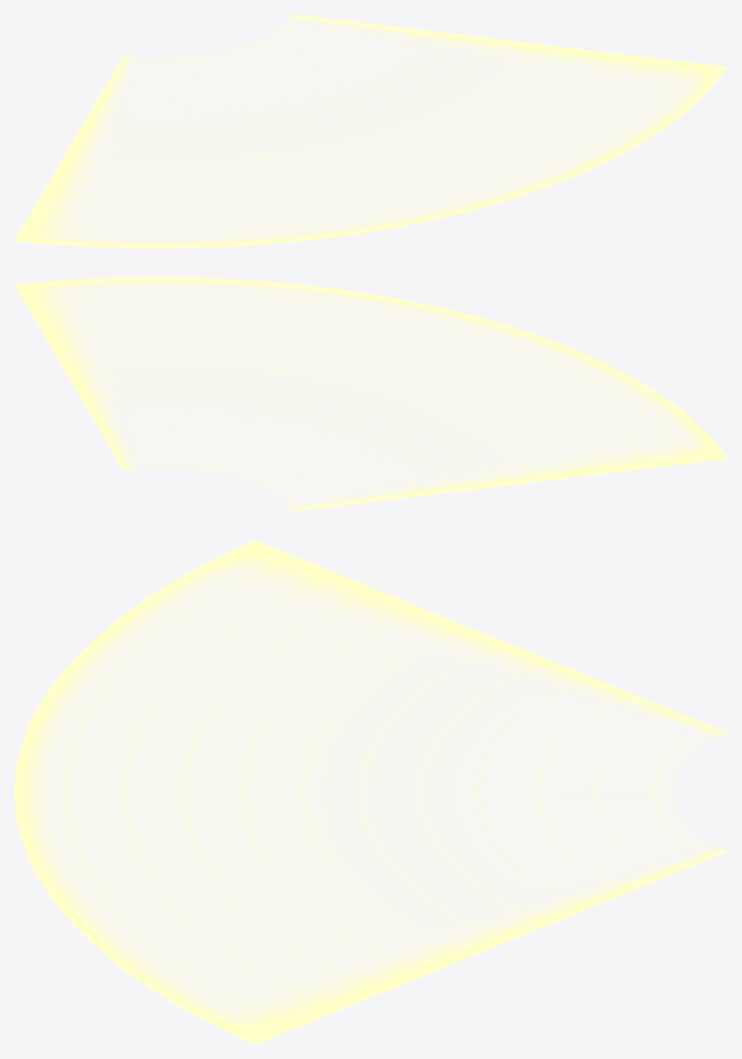
File: wedge88_gold.glb
3 renders of one model, top to bottom at view 1: azimuth 30°, elevation 25°; view 2: azimuth 150°, elevation 25°; view 3: azimuth 270°, elevation 25°, orthographic. The views are drawn at different scales.
Parts seen in each view (by area): view 1: wedge; view 2: wedge; view 3: wedge.
Part boxes in pixels (x1,y1,x2,y2): wedge: (14,14,727,248); wedge: (14,277,727,511); wedge: (14,540,727,1044).
Size of the model in its own units: 1.39 by 0 by 0.831.
Materials: 1 (1 with a texture image).
